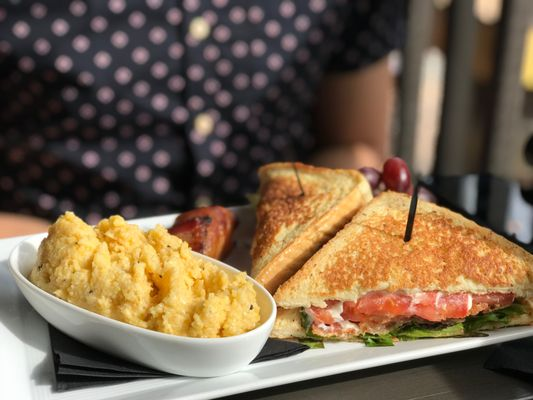soup: (249, 161, 375, 293)
sushi: (7, 217, 278, 377)
